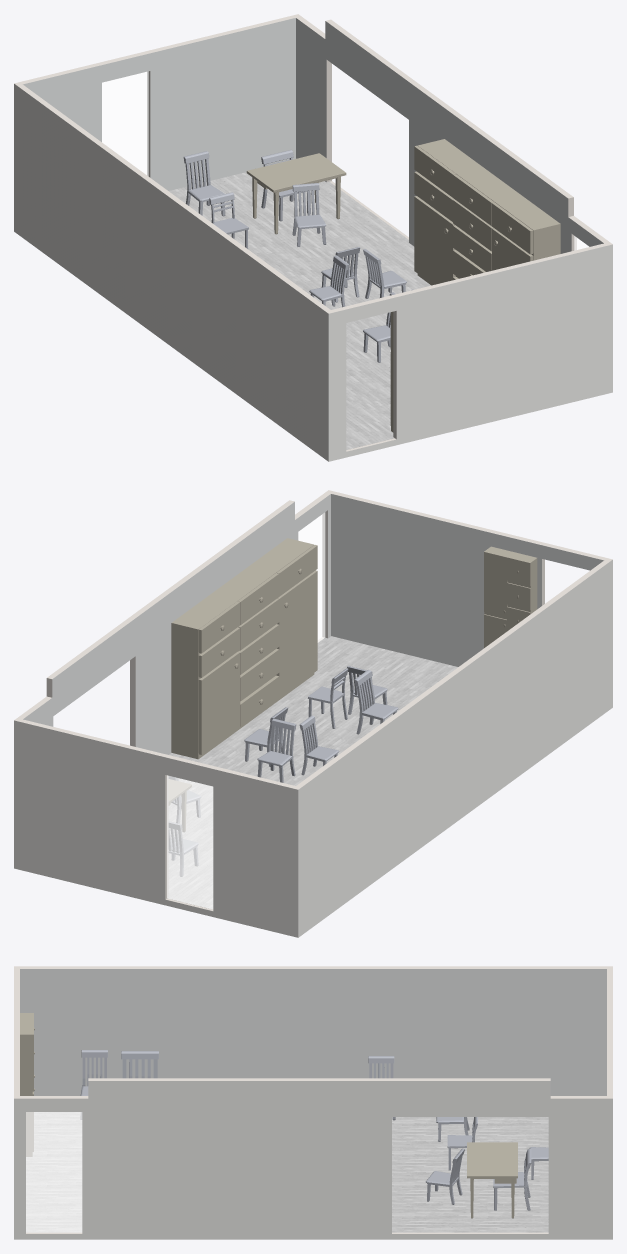
Rendered from MusicRoom2Model.glb.
The picture shows the model from 3 angles, top to bottom: view 1: azimuth 30°, elevation 25°; view 2: azimuth 150°, elevation 25°; view 3: azimuth 270°, elevation 25°; orthographic projection. The views are drawn at different scales.
Parts seen in each view (by area): view 1: wall_1, wall_0, wall_8, floor_Dining_Room, storage_cabinet_mid30, wall_10, door_0, door_2, wall_11, table_other_rect0, wall_7, wall_5 (+9 smaller); view 2: wall_1, wall_2, wall_4, storage_cabinet_mid30, floor_Dining_Room, wall_10, door_0, door_2, storage_cabinet_tall20, wall_11, wall_7, wall_9 (+9 smaller); view 3: wall_3, wall_6, floor_Dining_Room, door_1, door_3, table_other_rect0, wall_11, wall_7, storage_cabinet_tall20, chair_dining_four_back_no3, chair_dining_four_back_no0, wall_5 (+5 smaller).
Boxes of the visible parts, bbox=[...] form: wall_1: bbox=[14, 84, 328, 461]; wall_0: bbox=[328, 244, 612, 461]; wall_8: bbox=[23, 18, 295, 190]; floor_Dining_Room: bbox=[169, 172, 430, 449]; storage_cabinet_mid30: bbox=[414, 139, 560, 285]; wall_10: bbox=[296, 18, 603, 253]; door_0: bbox=[102, 71, 148, 175]; door_2: bbox=[102, 72, 148, 175]; wall_11: bbox=[296, 14, 612, 250]; table_other_rect0: bbox=[246, 153, 346, 234]; wall_7: bbox=[14, 83, 330, 313]; wall_5: bbox=[329, 243, 612, 451]; wall_1: bbox=[298, 560, 612, 937]; wall_2: bbox=[14, 720, 298, 937]; wall_4: bbox=[331, 494, 603, 666]; storage_cabinet_mid30: bbox=[171, 538, 317, 759]; floor_Dining_Room: bbox=[167, 636, 457, 909]; wall_10: bbox=[23, 494, 330, 754]; door_0: bbox=[167, 775, 212, 909]; door_2: bbox=[167, 775, 212, 908]; storage_cabinet_tall20: bbox=[484, 546, 537, 647]; wall_11: bbox=[14, 490, 330, 746]; wall_7: bbox=[296, 559, 612, 789]; wall_9: bbox=[14, 719, 297, 910]; wall_3: bbox=[14, 1081, 612, 1239]; wall_6: bbox=[20, 969, 606, 1095]; floor_Dining_Room: bbox=[26, 1112, 548, 1232]; door_1: bbox=[26, 1112, 81, 1232]; door_3: bbox=[26, 1112, 81, 1232]; table_other_rect0: bbox=[467, 1142, 517, 1218]; wall_11: bbox=[14, 1078, 612, 1233]; wall_7: bbox=[14, 966, 612, 968]; storage_cabinet_tall20: bbox=[20, 1013, 34, 1156]; chair_dining_four_back_no3: bbox=[121, 1051, 158, 1078]; chair_dining_four_back_no0: bbox=[425, 1148, 464, 1204]; wall_5: bbox=[14, 966, 19, 1098].
Size of the model in its own units: 5.1 by 2.86 by 9.78.
29 materials, 1 textured.
